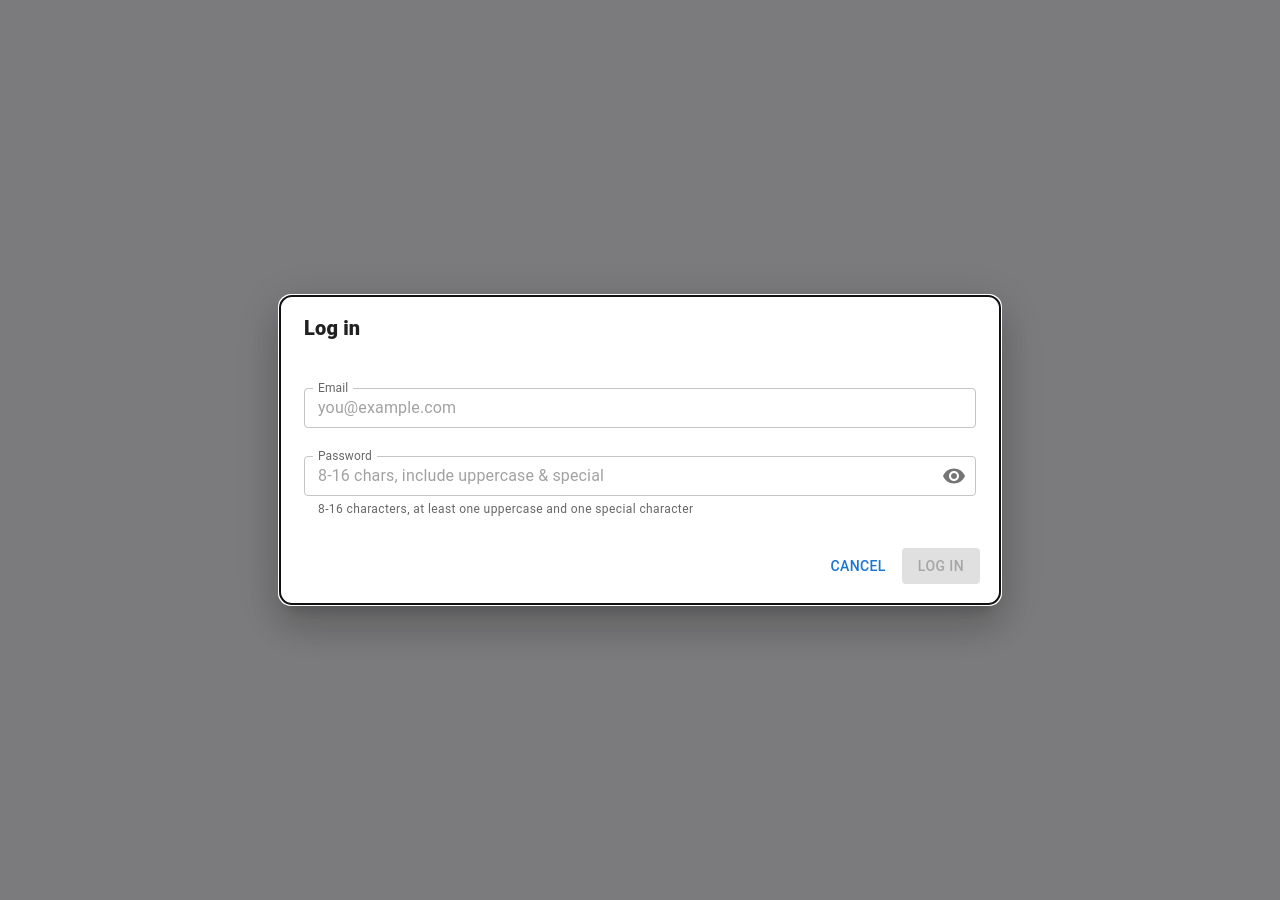
Test: authentication UI › shows login API failure
This screenshot has width=1280, height=900.
Type "user@example.com" into the field labelled "Email".
click(640, 408); type("user@example.com")  # box [304,388,976,428]
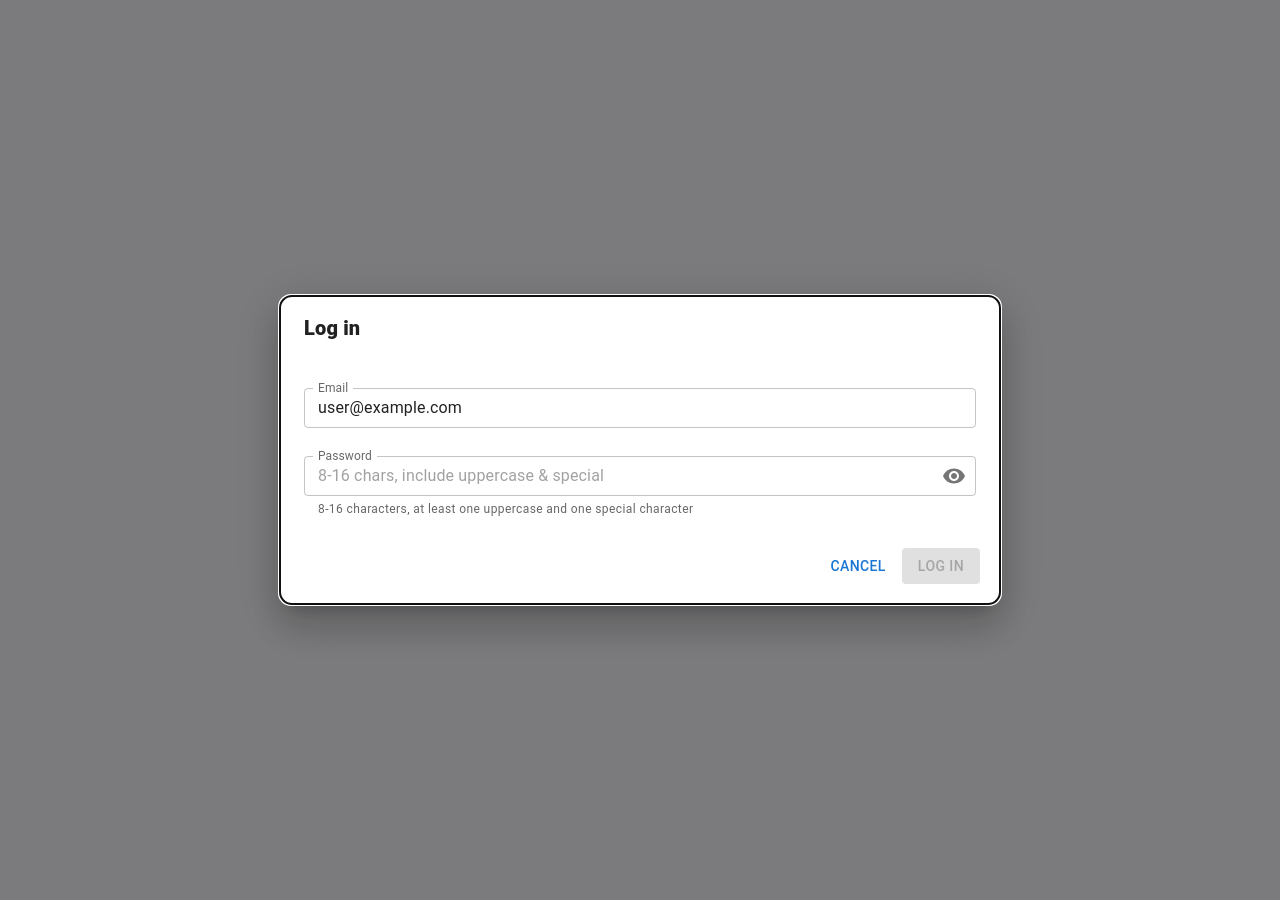
Type "bad" into the password field labelled "Password".
click(615, 476); type("bad")  # box [304,456,926,496]
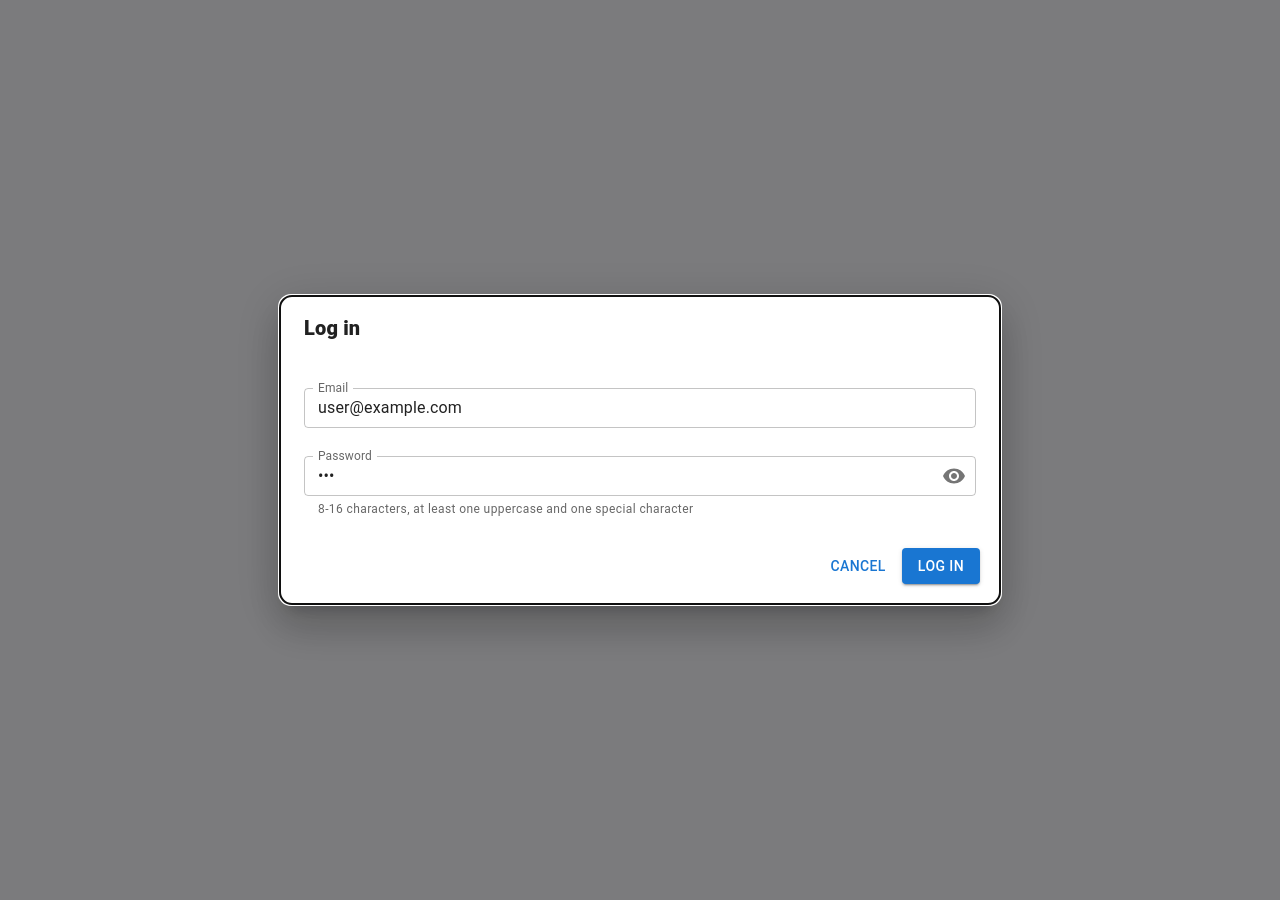
Click the button "Log in".
click(941, 566)  # box [902,548,980,584]
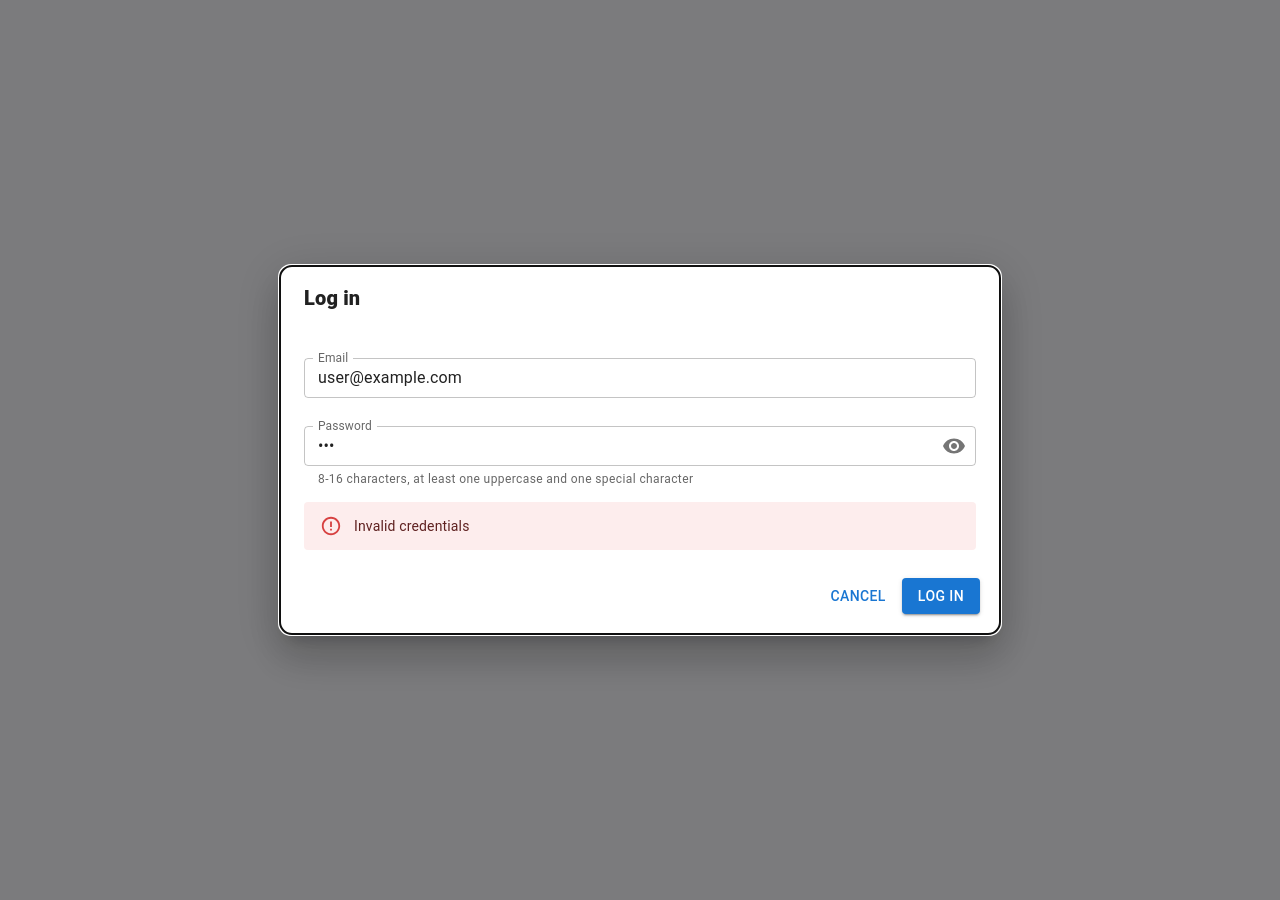
Expected: the text "Invalid credentials" is shown, [354,518,470,534]
